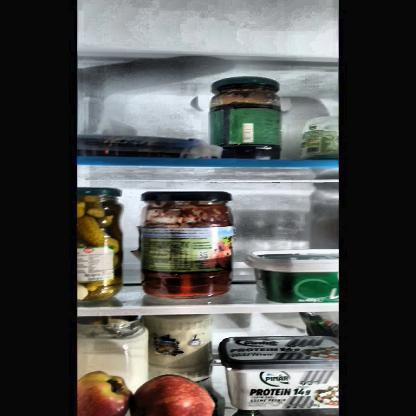apple: (133, 374, 215, 416), (78, 372, 134, 416)
cheese: (222, 335, 339, 408), (248, 250, 339, 302)
pickles: (78, 187, 121, 298)
tomato_paste: (140, 190, 234, 298)
